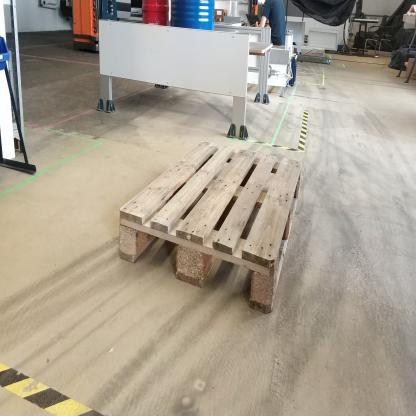BoxFace: (111, 128, 307, 330)
